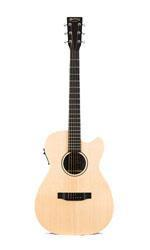guitar: (36, 16, 117, 236)
